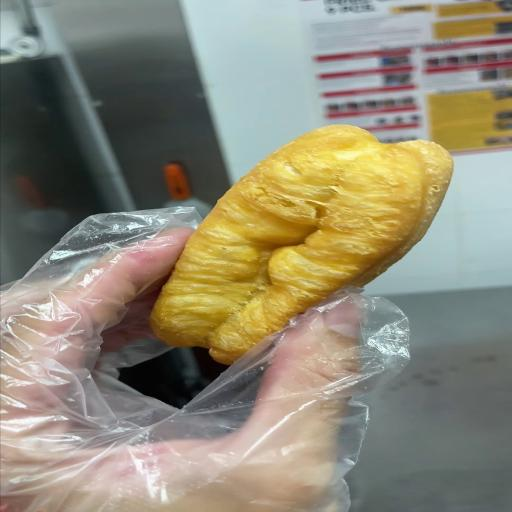brand_golden_good: (151, 125, 453, 364)
